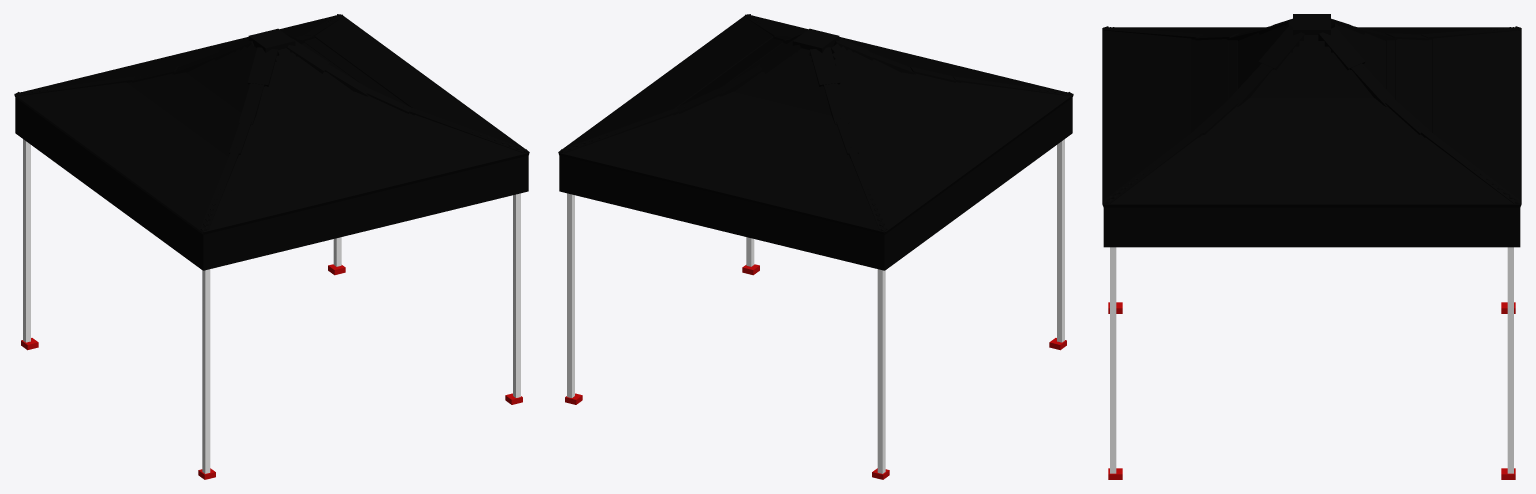
The model's file is tent.obj.
3 renders of one model, left to right at view 1: azimuth 30°, elevation 25°; view 2: azimuth 150°, elevation 25°; view 3: azimuth 270°, elevation 25°, orthographic. The views are drawn at different scales.
Visible parts, largest first — view 1: text3, cube1, text2, cube4, cube3, cube2, cube5, cube6, cube7, cube8, cube9, cube10 (+22 smaller); view 2: text1, cube1, text2, cube4, cube3, cube2, cube5, cube6, cube7, cube8, cube9, cube10 (+22 smaller); view 3: text0, cube1, cube4, cube3, cube2, cube5, cube7, cube6, cube8, cube9, cube10, cube11 (+21 smaller).
Boxes of the visible parts, x1=… form: text3: x1=208, y1=157, x2=523, y2=269; cube1: x1=14, y1=14, x2=529, y2=235; text2: x1=15, y1=98, x2=207, y2=270; cube4: x1=37, y1=18, x2=506, y2=216; cube3: x1=29, y1=17, x2=514, y2=222; cube2: x1=22, y1=15, x2=521, y2=227; cube5: x1=45, y1=20, x2=498, y2=211; cube6: x1=53, y1=21, x2=490, y2=206; cube7: x1=61, y1=22, x2=482, y2=201; cube8: x1=68, y1=24, x2=473, y2=196; cube9: x1=75, y1=25, x2=466, y2=192; cube10: x1=83, y1=28, x2=458, y2=187; text1: x1=564, y1=157, x2=879, y2=269; cube1: x1=558, y1=14, x2=1073, y2=235; text2: x1=880, y1=99, x2=1072, y2=270; cube4: x1=581, y1=18, x2=1050, y2=216; cube3: x1=573, y1=17, x2=1058, y2=222; cube2: x1=566, y1=15, x2=1065, y2=227; cube5: x1=589, y1=20, x2=1042, y2=211; cube6: x1=597, y1=21, x2=1034, y2=206; cube7: x1=605, y1=22, x2=1026, y2=201; cube8: x1=614, y1=24, x2=1019, y2=196; cube9: x1=621, y1=25, x2=1012, y2=192; cube10: x1=629, y1=28, x2=1004, y2=187; text0: x1=1103, y1=207, x2=1520, y2=247; cube1: x1=1102, y1=26, x2=1521, y2=209; cube4: x1=1120, y1=18, x2=1503, y2=191; cube3: x1=1114, y1=26, x2=1509, y2=195; cube2: x1=1108, y1=27, x2=1515, y2=200; cube5: x1=1126, y1=29, x2=1497, y2=186; cube7: x1=1138, y1=30, x2=1485, y2=177; cube6: x1=1132, y1=29, x2=1491, y2=182; cube8: x1=1143, y1=31, x2=1480, y2=173; cube9: x1=1149, y1=32, x2=1474, y2=168; cube10: x1=1155, y1=32, x2=1468, y2=164; cube11: x1=1161, y1=33, x2=1462, y2=159.
Size of the model in its own units: 4.15 by 4.06 by 4.15.
